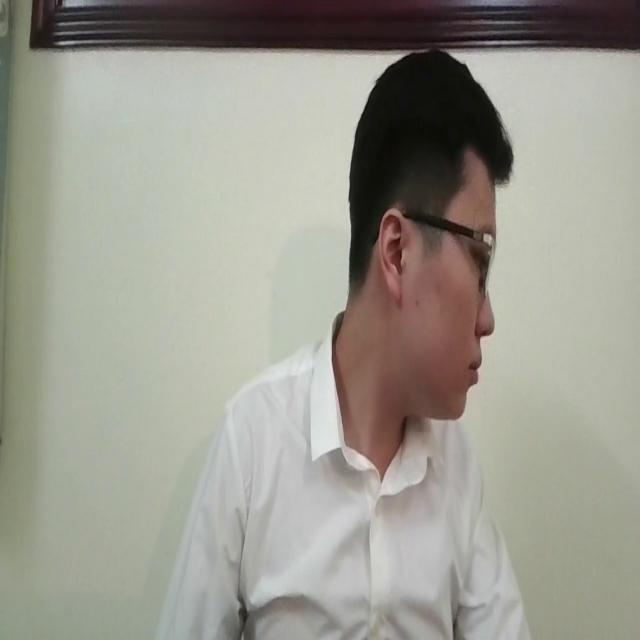student: (160, 66, 548, 640)
